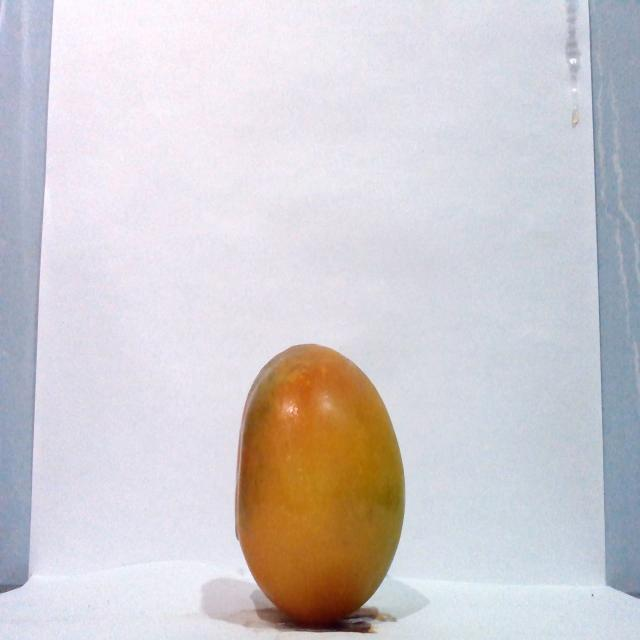Red: (233, 341, 406, 625)
